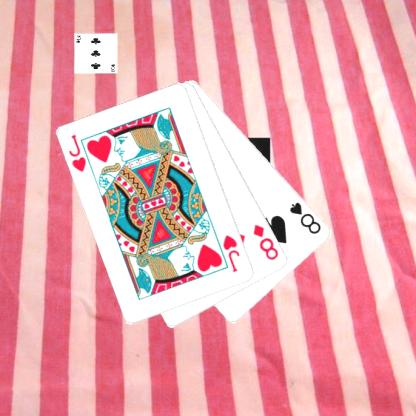8D: (251, 221, 280, 262)
8S: (286, 199, 322, 235)
JH: (67, 132, 88, 173), (221, 232, 241, 274)
